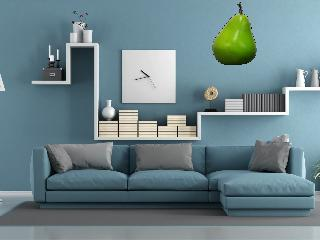pear: (209, 0, 258, 68)
